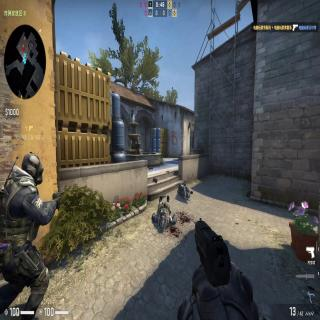T-Head: (136, 135, 139, 141)
